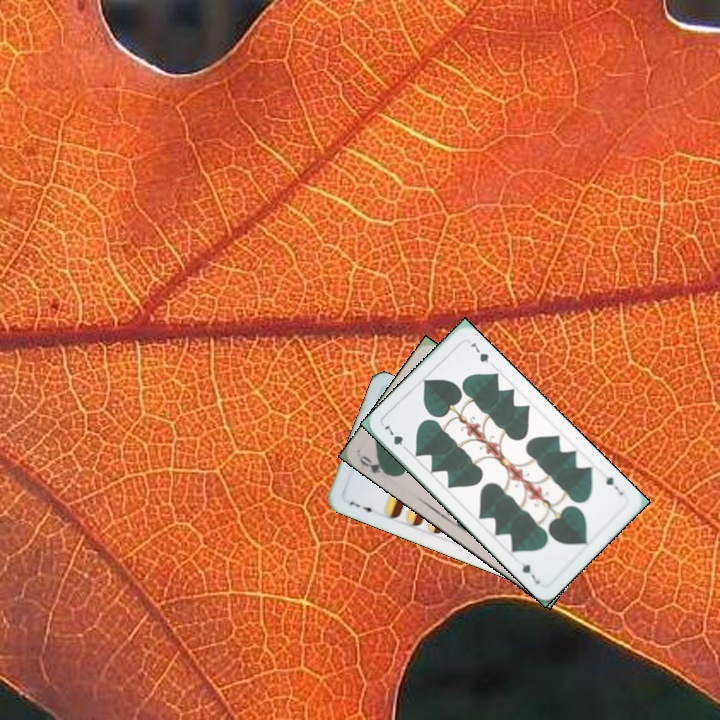E7: (345, 497, 378, 517)
G7: (380, 422, 411, 453), (602, 472, 626, 498)
GO: (355, 451, 393, 478)
